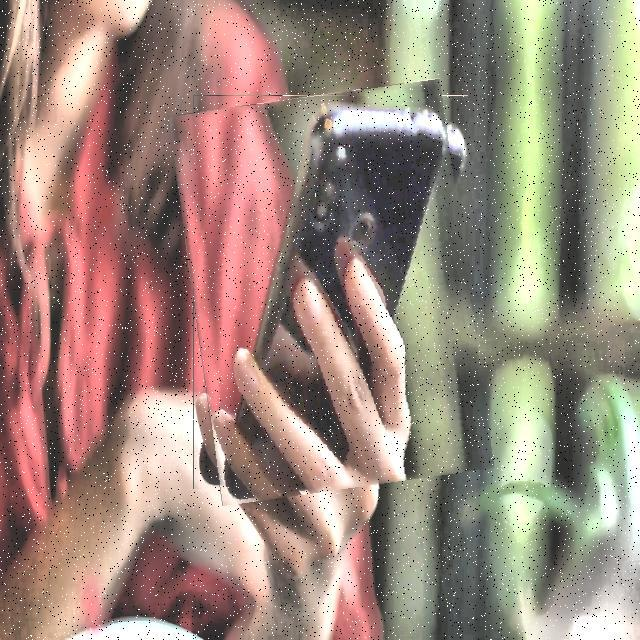Phone: (180, 86, 481, 498)
